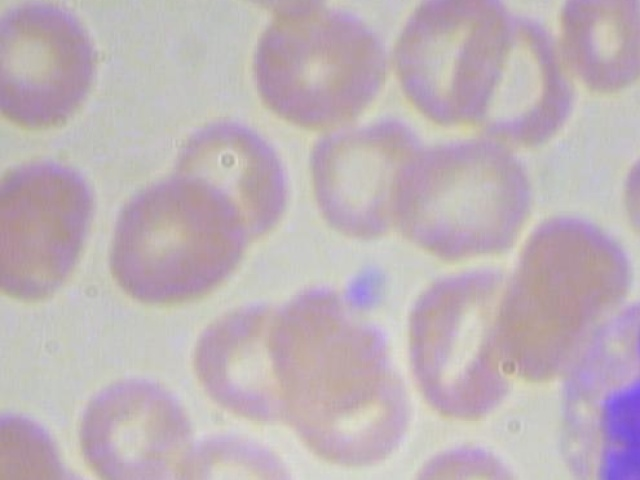Platelets: (340, 256, 400, 321)
RBC: (393, 265, 546, 421), (97, 168, 249, 314), (383, 130, 537, 267), (243, 0, 395, 137), (296, 114, 427, 243), (0, 155, 97, 323), (77, 366, 203, 480), (0, 0, 103, 130), (551, 0, 640, 100), (178, 431, 310, 480), (407, 431, 528, 480), (614, 131, 640, 268)
WBC: (544, 288, 640, 480)
